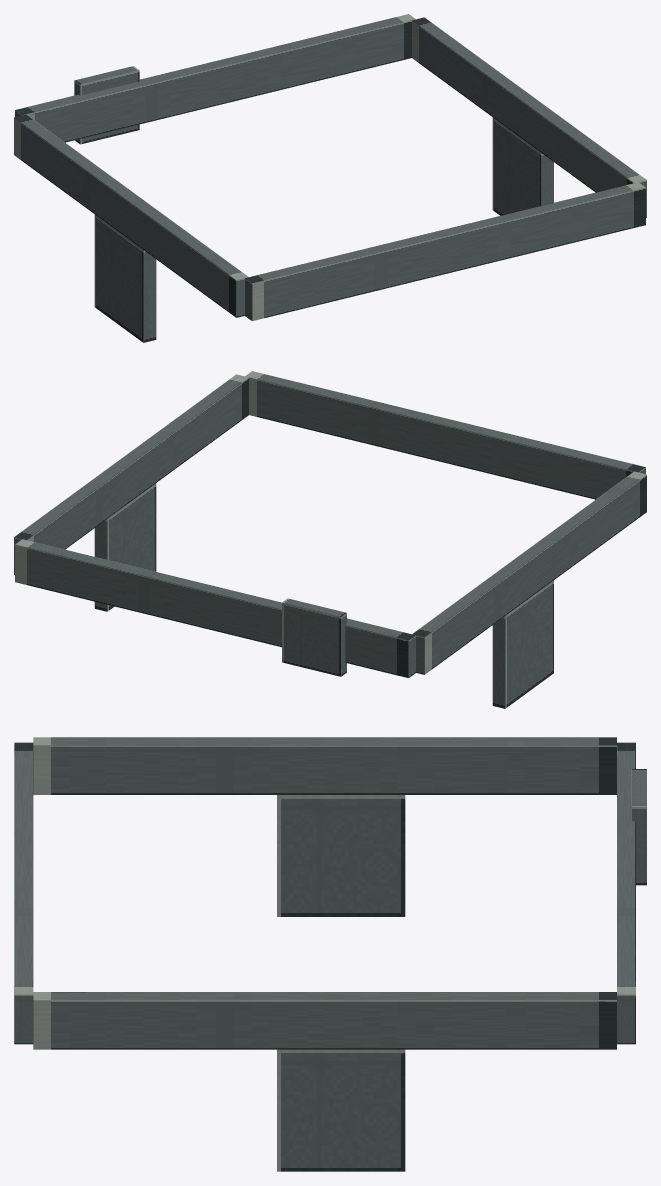
File: workpiece_xuantie_helmet_shaped.obj
The picture shows the model from 3 angles, top to bottom: view 1: azimuth 30°, elevation 25°; view 2: azimuth 150°, elevation 25°; view 3: azimuth 270°, elevation 25°; orthographic projection. The views are drawn at different scales.
Visible parts, largest first — view 1: geometry; view 2: geometry; view 3: geometry.
Boxes of the visible parts, left/top/right/bottom form: geometry: left=14, top=14, right=646, bottom=342; geometry: left=14, top=371, right=646, bottom=708; geometry: left=14, top=737, right=646, bottom=1171.
Bounding box in the file's own units: 0.6062 × 0.2 × 0.6169.
